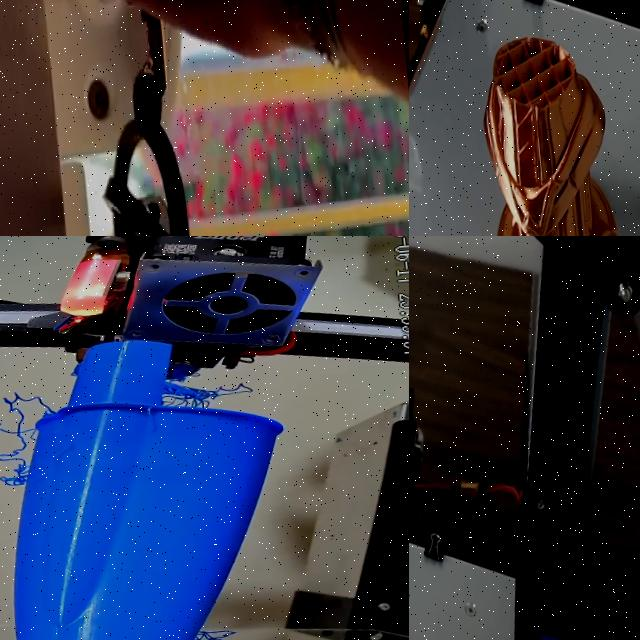spaghetti: (150, 354, 276, 422), (0, 384, 61, 488), (185, 619, 239, 640)
